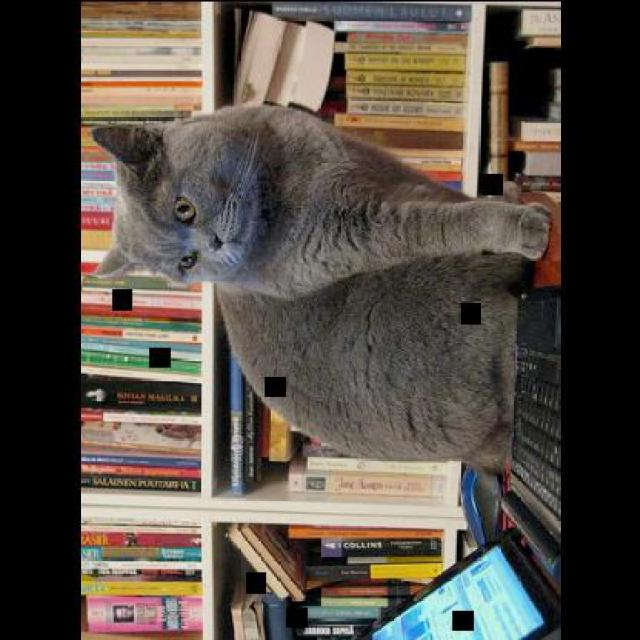unauthorized: (86, 102, 552, 300), (212, 251, 536, 474)
